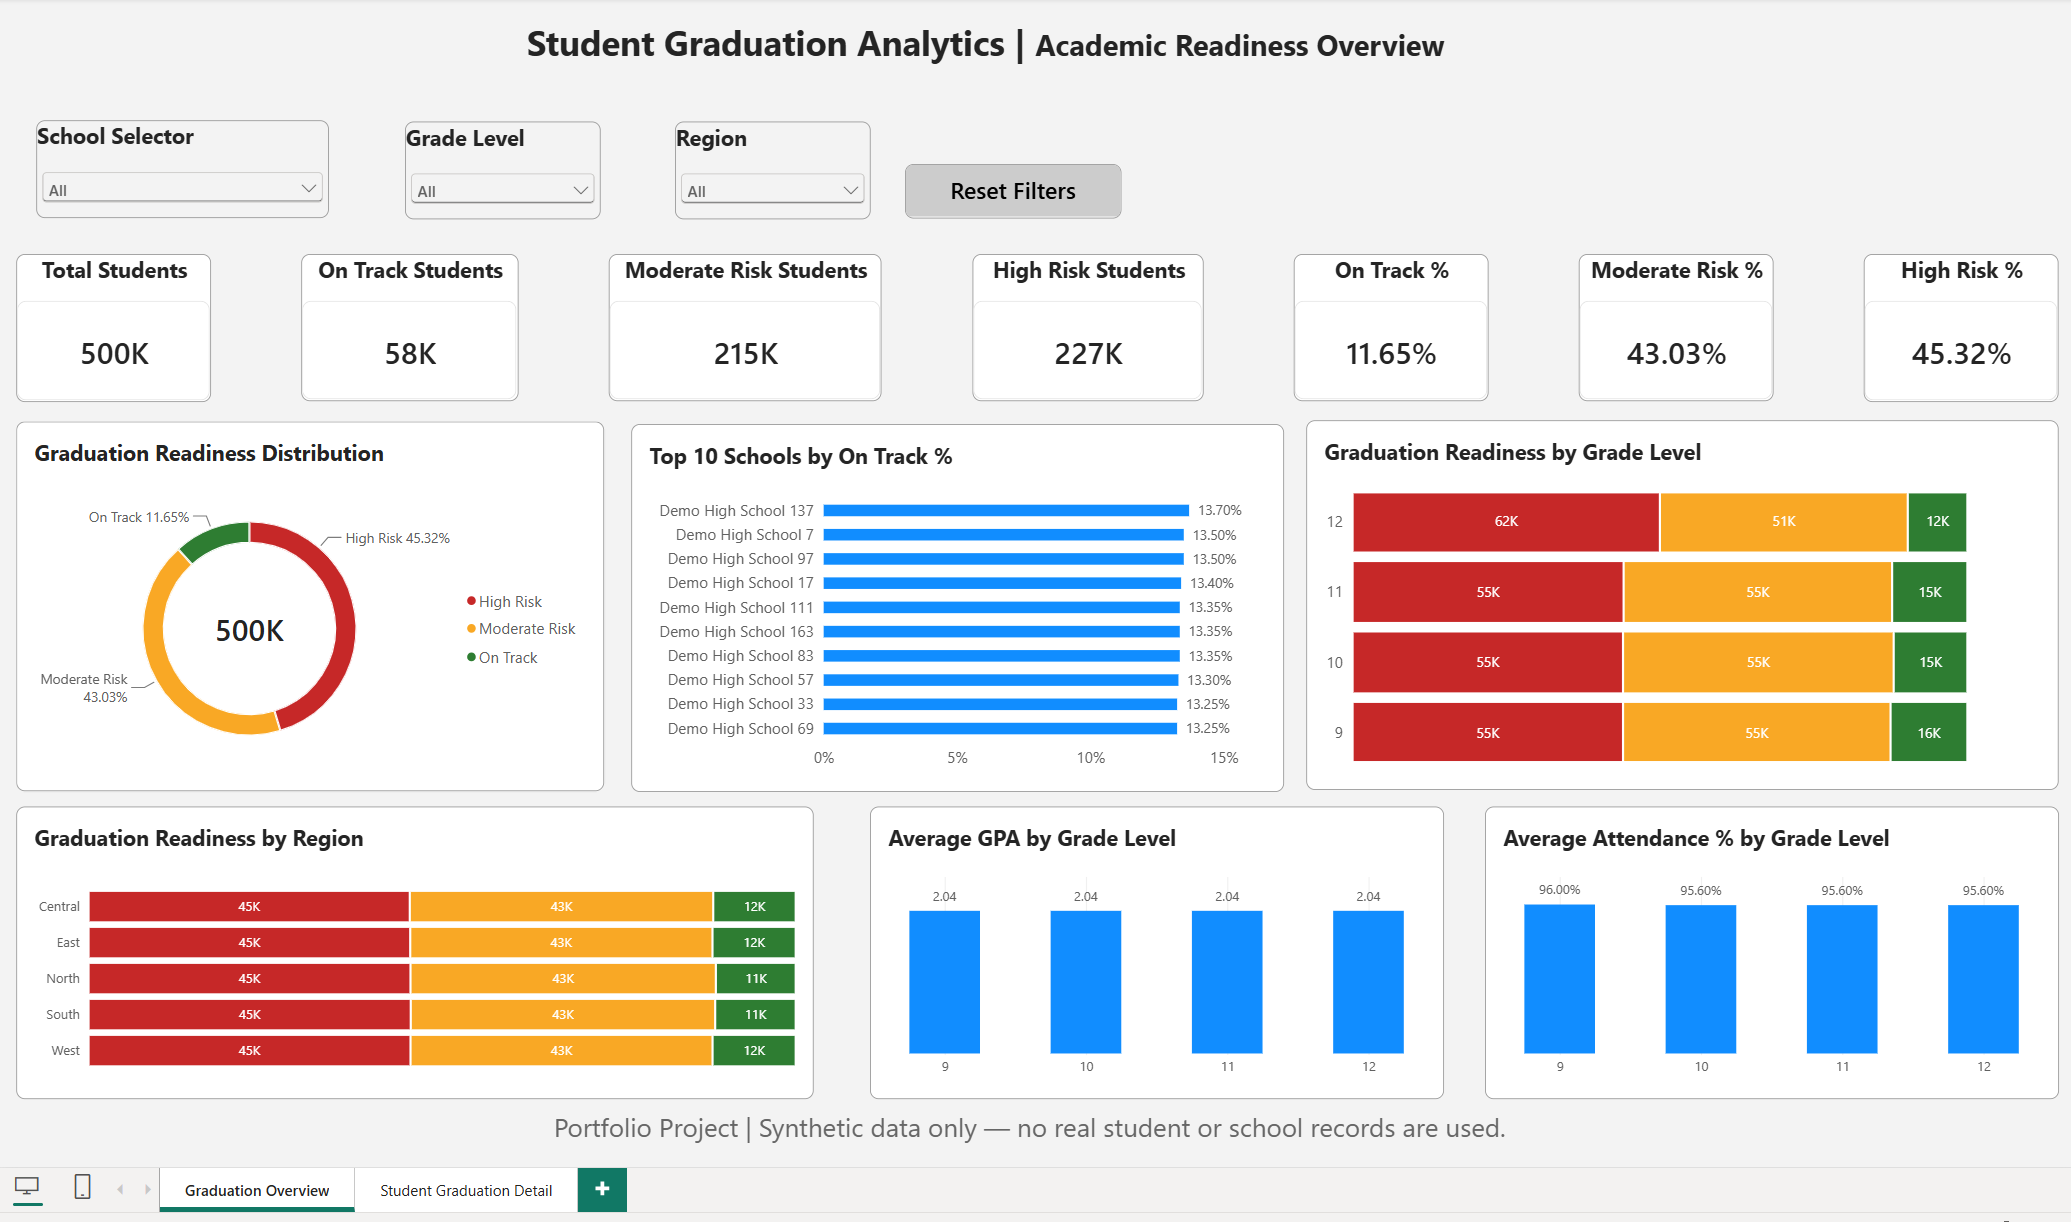

Layout of this report page (visuals, bound fields, positions):
{"tool":"powerbi","page":{"name":"Graduation Overview","canvas":[1920,1080],"ordinal":0},"visuals":[{"type":"cardVisual","title":"Total Students","fields":{"Data":["_Measures.Total Students"]},"box":[15.5,235.1,180,136.7],"z":0},{"type":"cardVisual","title":"Moderate Risk Students","fields":{"Data":["_Measures.Moderate Risk Solutions"]},"box":[562.8,235.6,252.1,135.6],"z":1000},{"type":"cardVisual","title":"High Risk Students","fields":{"Data":["_Measures.High Risk Solutions"]},"box":[898.2,235.6,213.8,135.6],"z":2000},{"type":"cardVisual","title":"On Track Students","fields":{"Data":["_Measures.On Track Students"]},"box":[278.9,235.6,200.5,135.6],"z":3000},{"type":"cardVisual","title":"On Track %","fields":{"Data":["_Measures.On Track%"]},"box":[1195.4,235.4,180,136],"z":4000},{"type":"cardVisual","title":"Moderate Risk %","fields":{"Data":["_Measures.Moderate Risk%"]},"box":[1458.8,235.4,180,136],"z":5000},{"type":"cardVisual","title":"High Risk %","fields":{"Data":["_Measures.High Risk%"]},"box":[1722.2,235.1,180,136.7],"z":6000},{"type":"donutChart","title":"Graduation Readiness Distribution","fields":{"Category":["FactGraduationReadiness.ReadinessStatus"],"Y":["_Measures.Total Students"]},"box":[15.5,391,543.3,341.7],"z":7000},{"type":"clusteredBarChart","title":"Top 10 Schools by On Track % ","fields":{"Category":["DimSchool.SchoolName"],"Y":["_Measures.On Track%"]},"box":[583.8,392.6,603.3,340],"z":8000},{"type":"slicer","title":"School Selector","fields":{"Values":["DimSchool.SchoolName"]},"box":[34.1,112.3,270.6,90.6],"z":9000},{"type":"slicer","title":"Grade Level","fields":{"Values":["DimStudent.GradeLevel"]},"box":[373.7,112.6,181.2,90.6],"z":10000},{"type":"barChart","title":"Graduation Readiness by Grade Level","fields":{"Category":["FactGraduationReadiness.GradeLevel"],"Series":["FactGraduationReadiness.ReadinessStatus"],"Y":["_Measures.Total Students"]},"box":[1207.2,389.3,695,341.7],"z":11000},{"type":"slicer","title":"Region","fields":{"Values":["DimSchool.Region"]},"box":[623.8,112.6,181.2,90.6],"z":12000},{"type":"textbox","box":[476.2,0,869.8,82.6],"z":13000},{"type":"barChart","title":"Graduation Readiness by Region","fields":{"Category":["DimSchool.Region"],"Series":["FactGraduationReadiness.ReadinessStatus"],"Y":["_Measures.Total Students"]},"box":[15.5,746,736.7,270],"z":14000},{"type":"clusteredColumnChart","title":"Average GPA by Grade Level","fields":{"Category":["FactGraduationReadiness.GradeLevel"],"Y":["_Measures.Average GPA"]},"box":[803.8,746,530,270],"z":15000},{"type":"clusteredColumnChart","title":"Average Attendance % by Grade Level","fields":{"Category":["FactGraduationReadiness.GradeLevel"],"Y":["_Measures.Average Attendance %"]},"box":[1372.2,746,530,270],"z":16000},{"type":"actionButton","box":[836.2,152.7,200,50],"z":17000},{"type":"textbox","box":[16.2,1026.1,1870.8,41.3],"z":17001}]}

Visuals, with their boxes on the page's 1920x1080 design canvas (x1, y1, x2, y2). These are canvas units, not pixel positions in the 2071x1222 screenshot, which may show the page scaled, cropped or inside an application window:
"Total Students" cardVisual: region(16, 235, 196, 372)
"Moderate Risk Students" cardVisual: region(563, 236, 815, 371)
"High Risk Students" cardVisual: region(898, 236, 1112, 371)
"On Track Students" cardVisual: region(279, 236, 479, 371)
"On Track %" cardVisual: region(1195, 235, 1375, 371)
"Moderate Risk %" cardVisual: region(1459, 235, 1639, 371)
"High Risk %" cardVisual: region(1722, 235, 1902, 372)
"Graduation Readiness Distribution" donutChart: region(16, 391, 559, 733)
"Top 10 Schools by On Track % " clusteredBarChart: region(584, 393, 1187, 733)
"School Selector" slicer: region(34, 112, 305, 203)
"Grade Level" slicer: region(374, 113, 555, 203)
"Graduation Readiness by Grade Level" barChart: region(1207, 389, 1902, 731)
"Region" slicer: region(624, 113, 805, 203)
textbox: region(476, 0, 1346, 83)
"Graduation Readiness by Region" barChart: region(16, 746, 752, 1016)
"Average GPA by Grade Level" clusteredColumnChart: region(804, 746, 1334, 1016)
"Average Attendance % by Grade Level" clusteredColumnChart: region(1372, 746, 1902, 1016)
actionButton: region(836, 153, 1036, 203)
textbox: region(16, 1026, 1887, 1067)
